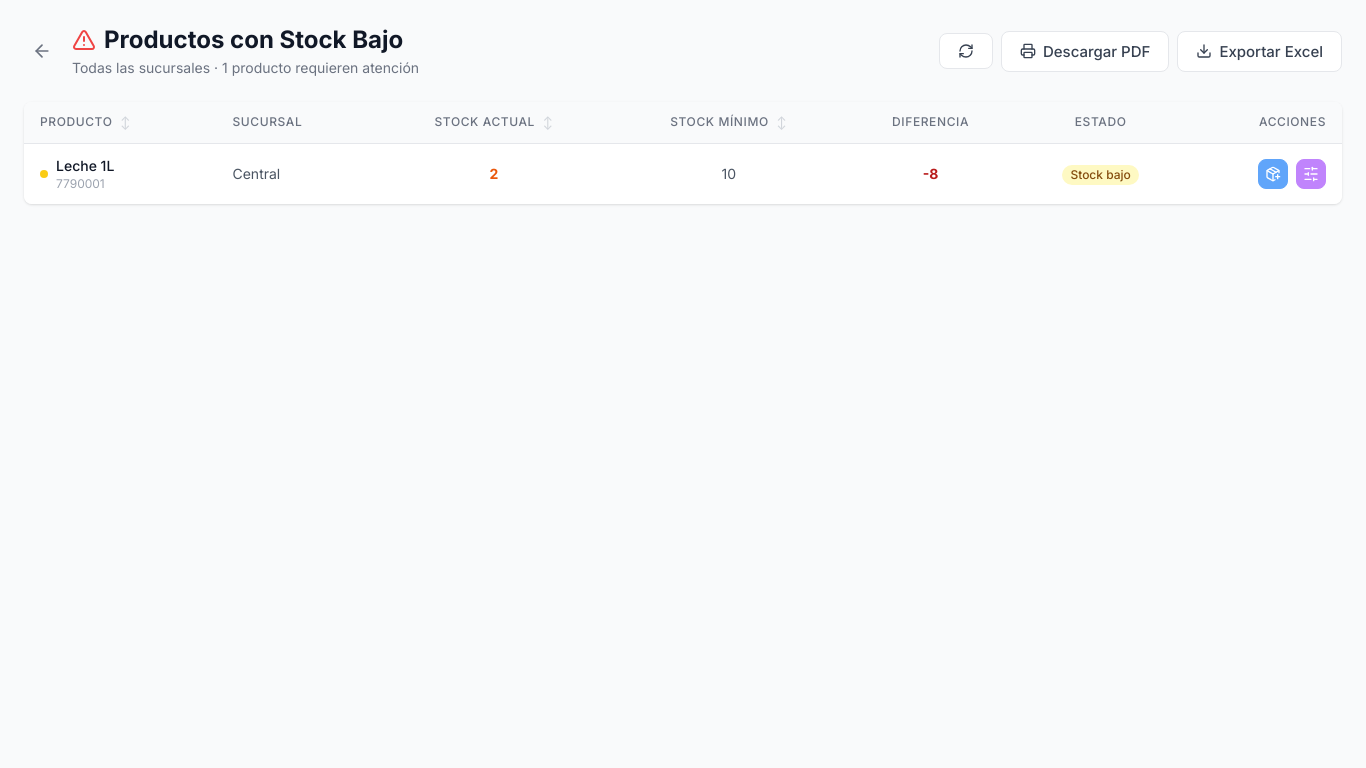
Scenario: StockAlerts › abre el modal "Modificar Stock Mínimo" al hacer click en su botón
Check: the text "Leche 1L" is shown, box [56, 156, 114, 176]
What coordinates should you click on to do the following:
click the button titled "Modificar stock mínimo"
I would click on:
 (1311, 174)
Its box is [1296, 159, 1326, 189].
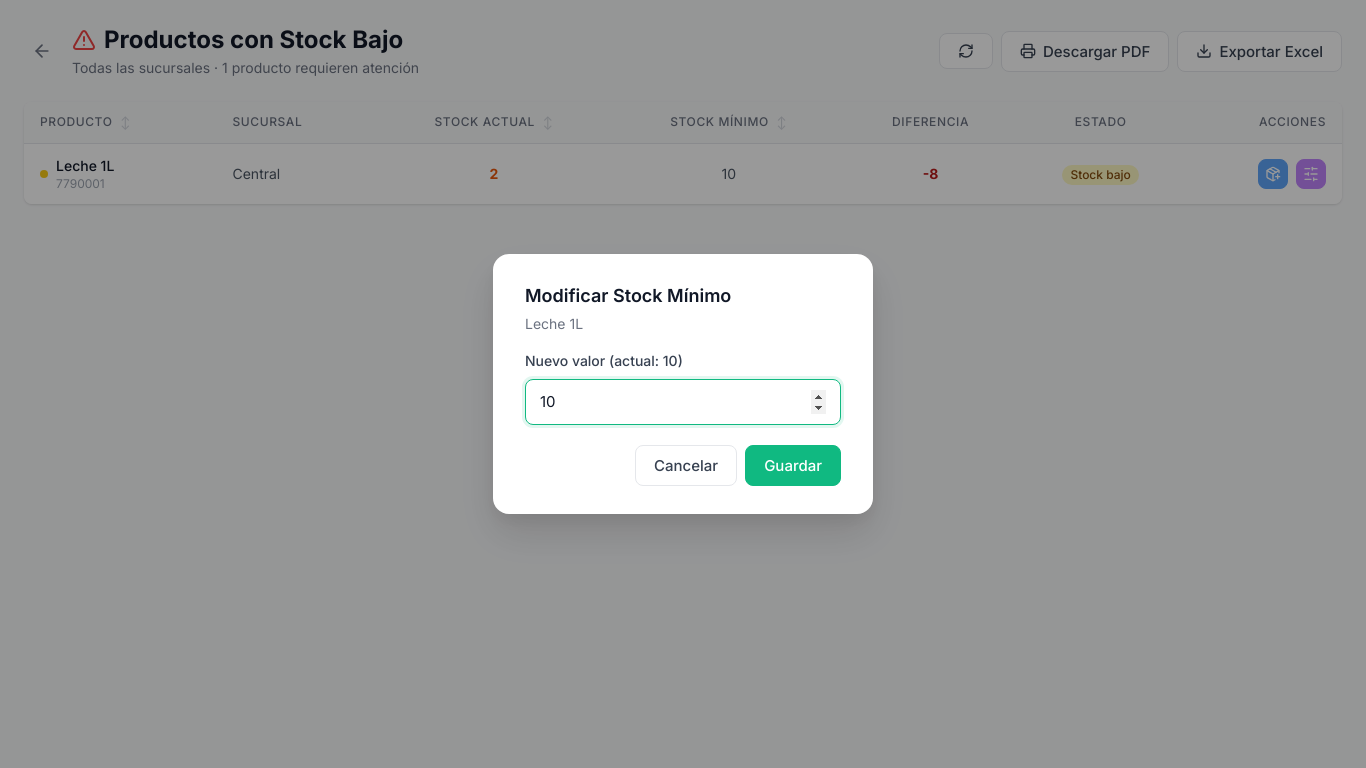
Check: the heading "Modificar Stock Mínimo" is shown, box [525, 285, 731, 306]
Check: the text "Nuevo valor (actual: 10)" is shown, box [525, 352, 683, 369]
